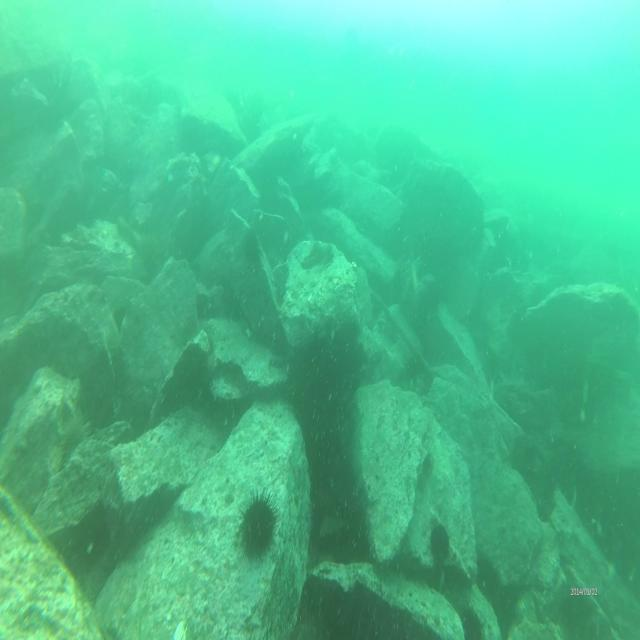echinus: (235, 492, 278, 552), (60, 416, 89, 452), (429, 530, 453, 566), (241, 229, 259, 271)
